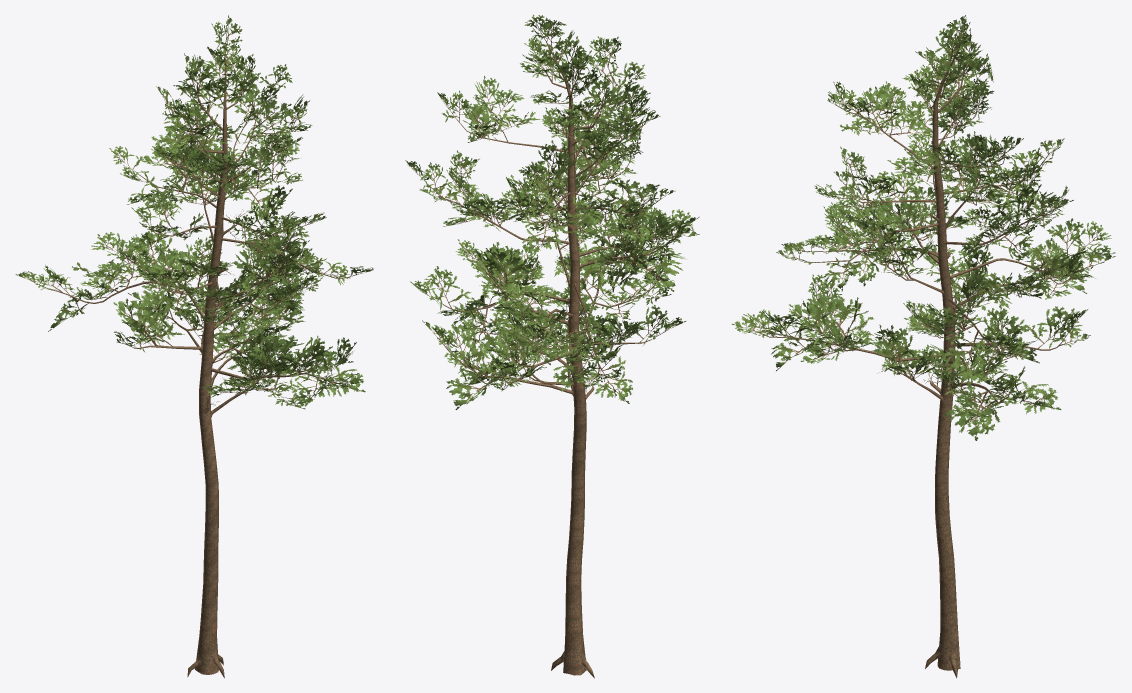
3 views of the same model, side by side, from view 1: azimuth 30°, elevation 25°; view 2: azimuth 150°, elevation 25°; view 3: azimuth 270°, elevation 25° (orthographic). The views are drawn at different scales.
Visible parts, largest first — view 1: Pine_large_3_LOD1_Clusters_Mat_0; view 2: Pine_large_3_LOD1_Clusters_Mat_0; view 3: Pine_large_3_LOD1_Clusters_Mat_0.
Part boxes in pixels (<box>): Pine_large_3_LOD1_Clusters_Mat_0: <box>15,15,373,678</box>; Pine_large_3_LOD1_Clusters_Mat_0: <box>405,14,699,678</box>; Pine_large_3_LOD1_Clusters_Mat_0: <box>731,15,1115,678</box>.
Bounding box in the file's own units: 12.36 × 30.06 × 15.92.
